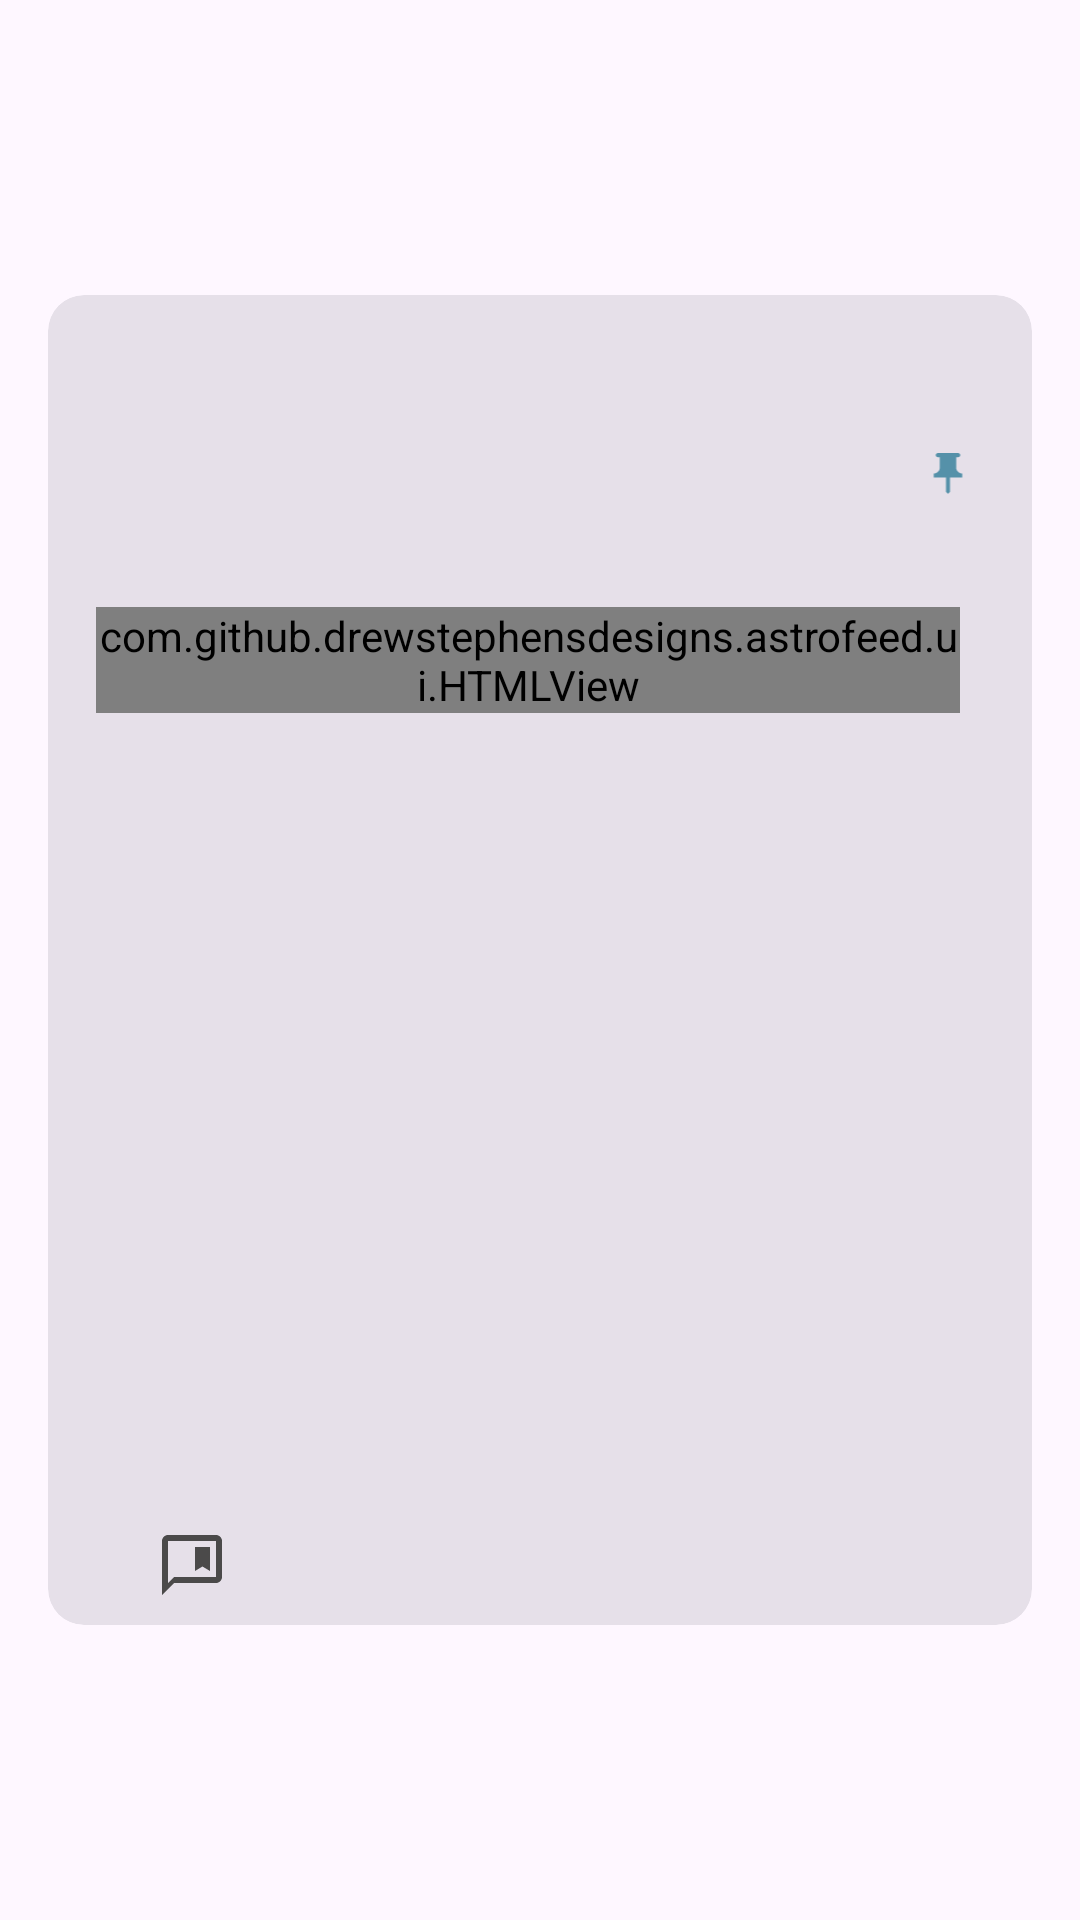

Icon click points for this 1080*1920 phone screenshot, format [x,y]:
comment: [192,1565]
pin: [948,473]
